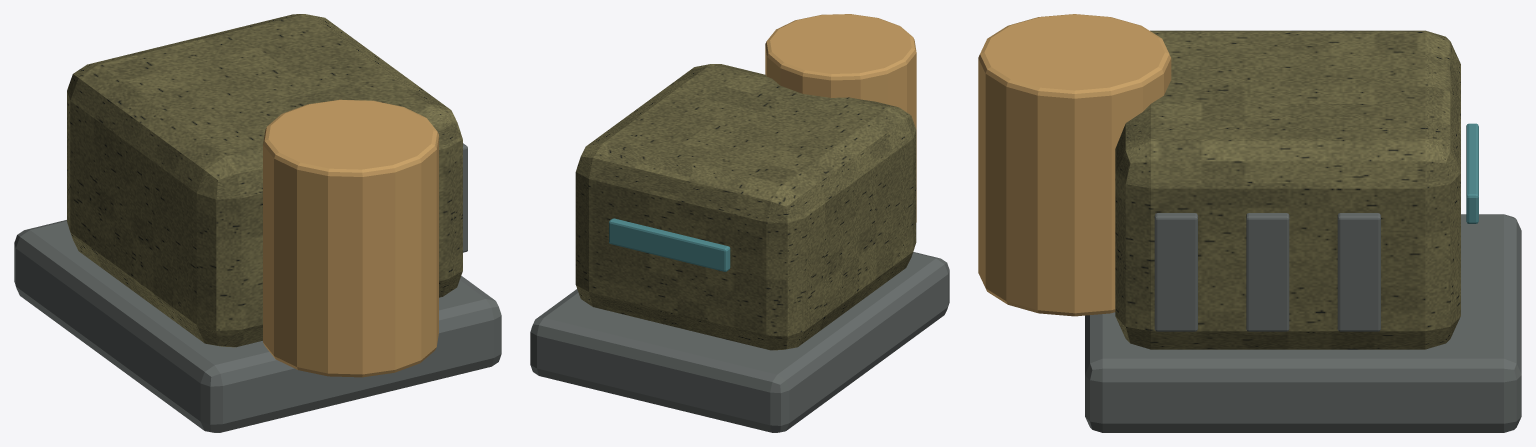
Rendered from STK-M01.fbx.
3 renders of one model, left to right at view 1: azimuth 30°, elevation 25°; view 2: azimuth 150°, elevation 25°; view 3: azimuth 270°, elevation 25°, orthographic. The views are drawn at different scales.
Parts seen in each view (by area): view 1: STK-M01_Armor, STK-M01_Brass, STK-M01_Steel; view 2: STK-M01_Armor, STK-M01_Steel, STK-M01_Brass, STK-M01_Optic; view 3: STK-M01_Armor, STK-M01_Steel, STK-M01_Brass, STK-M01_Optic.
Part boxes in pixels (box(x1,y1,x2,y2)): STK-M01_Armor: box(67, 14, 462, 347); STK-M01_Brass: box(263, 99, 438, 377); STK-M01_Steel: box(14, 143, 501, 432); STK-M01_Armor: box(575, 64, 916, 350); STK-M01_Steel: box(530, 252, 949, 432); STK-M01_Brass: box(765, 14, 916, 222); STK-M01_Optic: box(609, 218, 730, 271); STK-M01_Armor: box(1115, 30, 1460, 349); STK-M01_Steel: box(1085, 213, 1521, 432); STK-M01_Brass: box(978, 14, 1171, 316); STK-M01_Optic: box(1466, 123, 1478, 223).
Size of the model in its own units: 74 by 65.5 by 107.
